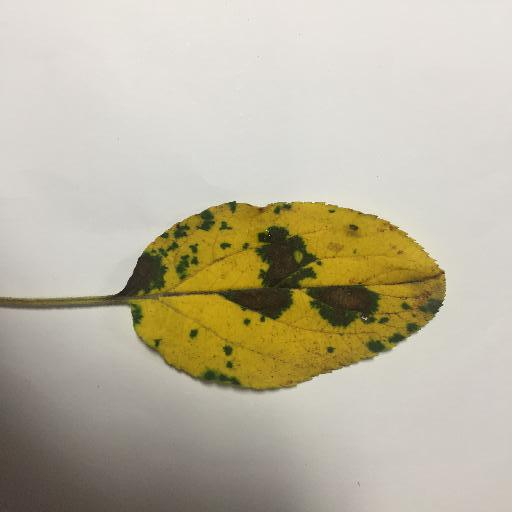Brown_Spot: (215, 238, 298, 326), (310, 285, 377, 325), (110, 264, 168, 297)
